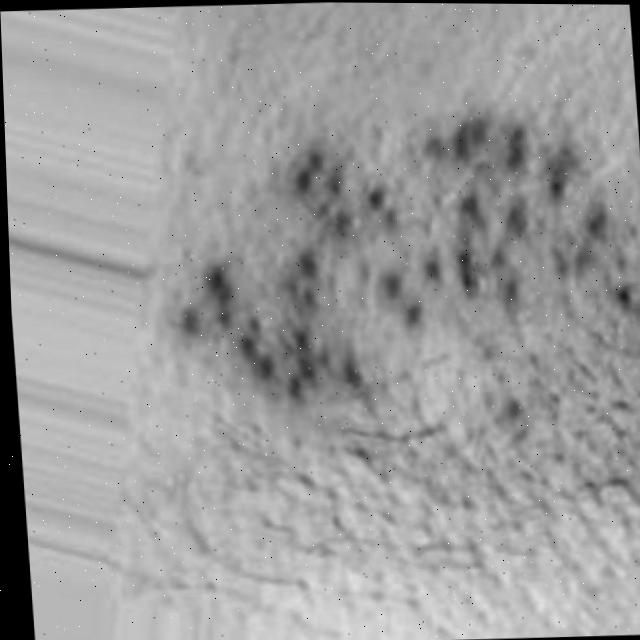Shingles: (163, 99, 622, 410)
